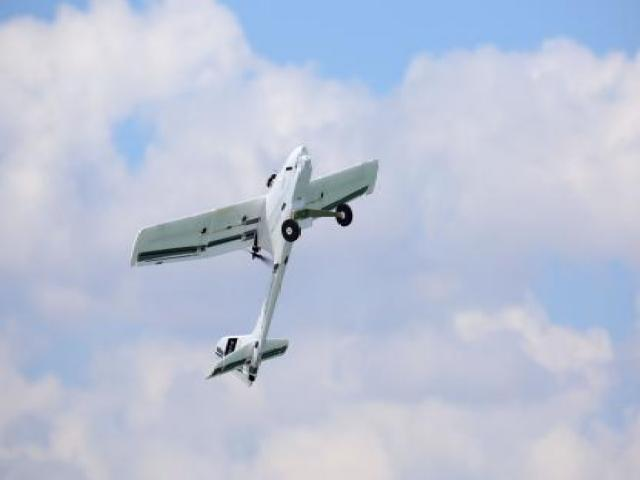uav: (132, 147, 379, 386)
